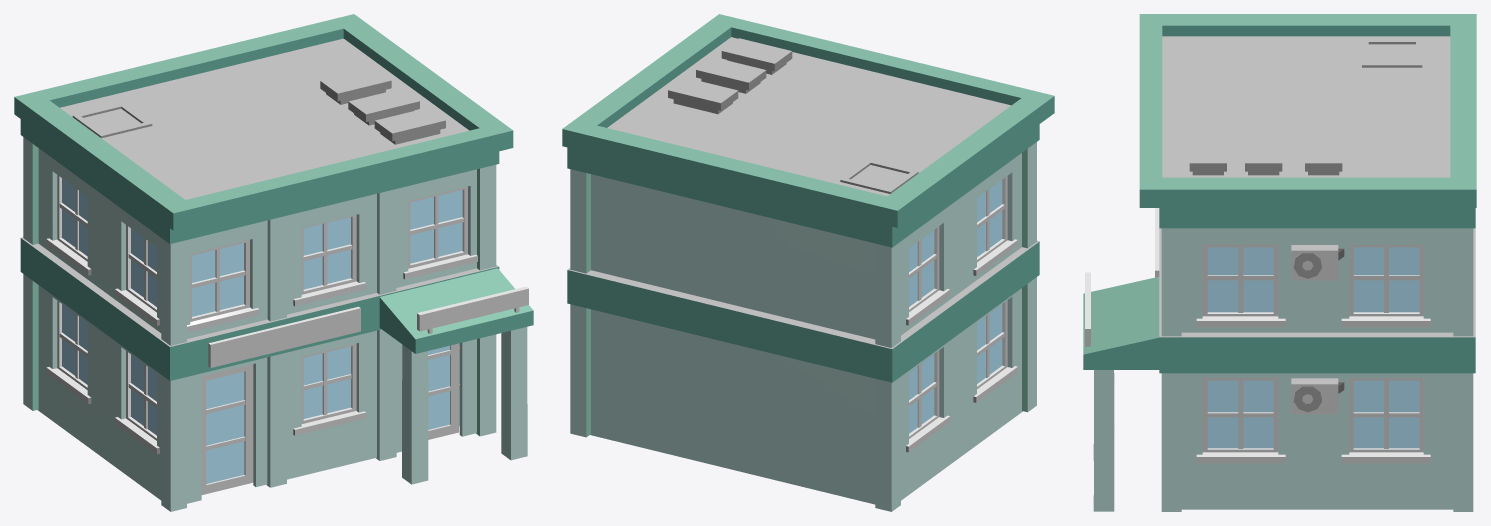
The model's file is bank_010.fbx.
The picture shows the model from 3 angles, left to right: view 1: azimuth 30°, elevation 25°; view 2: azimuth 150°, elevation 25°; view 3: azimuth 270°, elevation 25°; orthographic projection. The views are drawn at different scales.
Parts seen in each view (by area): view 1: bank_010; view 2: bank_010; view 3: bank_010.
Boxes of the visible parts, x1,y1,x2,y2 form: bank_010: (14, 14, 533, 511); bank_010: (562, 14, 1054, 511); bank_010: (1083, 14, 1476, 511).
Bounding box in the file's own units: 715 × 628 × 676.
